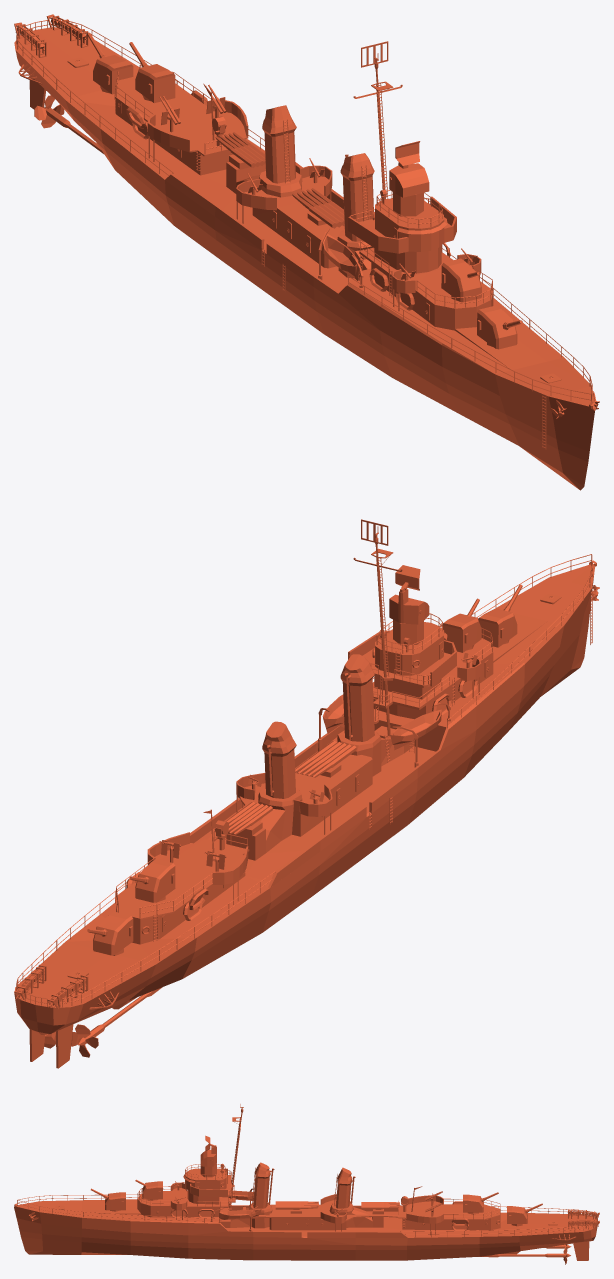
Rendered from Benson-Destroyer.fbx.
3 renders of one model, top to bottom at view 1: azimuth 30°, elevation 25°; view 2: azimuth 150°, elevation 25°; view 3: azimuth 270°, elevation 25°, orthographic. The views are drawn at different scales.
Visible parts, largest first — view 1: benson-base, benson-turret, benson-railing, benson-torpedos, benson-ladders, benson-depthcharge, benson-rangefinder, benson-dinghy, benson-propeller, benson-liferaft, benson-40mm-mount; view 2: benson-base, benson-turret, benson-railing, benson-torpedos, benson-liferaft, benson-depthcharge, benson-propeller, benson-rangefinder, benson-dinghy, benson-ladders; view 3: benson-base, benson-railing, benson-turret, benson-torpedos, benson-liferaft, benson-dinghy, benson-depthcharge, benson-propeller, benson-rangefinder.
Boxes of the visible parts, x1,y1,x2,y2 form: benson-base: (14,27,596,490); benson-turret: (93,55,517,349); benson-railing: (16,20,592,401); benson-torpedos: (215,132,344,228); benson-ladders: (115,83,546,449); benson-depthcharge: (14,14,88,57); benson-rangefinder: (389,162,429,197); benson-dinghy: (126,90,414,310); benson-propeller: (34,95,103,153); benson-liferaft: (323,232,358,276); benson-40mm-mount: (159,84,226,132); benson-base: (14,519,596,1068); benson-turret: (93,608,517,955); benson-railing: (16,554,592,1007); benson-torpedos: (226,740,356,836); benson-liferaft: (322,694,441,750); benson-depthcharge: (14,964,88,1009); benson-propeller: (44,987,162,1057); benson-rangefinder: (389,582,429,624); benson-dinghy: (126,679,477,920); benson-ladders: (153,556,592,941); benson-base: (14,1104,597,1260); benson-railing: (17,1164,597,1236); benson-turret: (105,1181,527,1226); benson-torpedos: (275,1201,399,1214); benson-liferaft: (219,1190,261,1219); benson-dinghy: (170,1201,468,1230); benson-depthcharge: (568,1209,599,1229); benson-propeller: (479,1244,571,1264); benson-rangefinder: (200,1144,216,1166).
Size of the model in its own units: 11.7 by 31.71 by 106.
